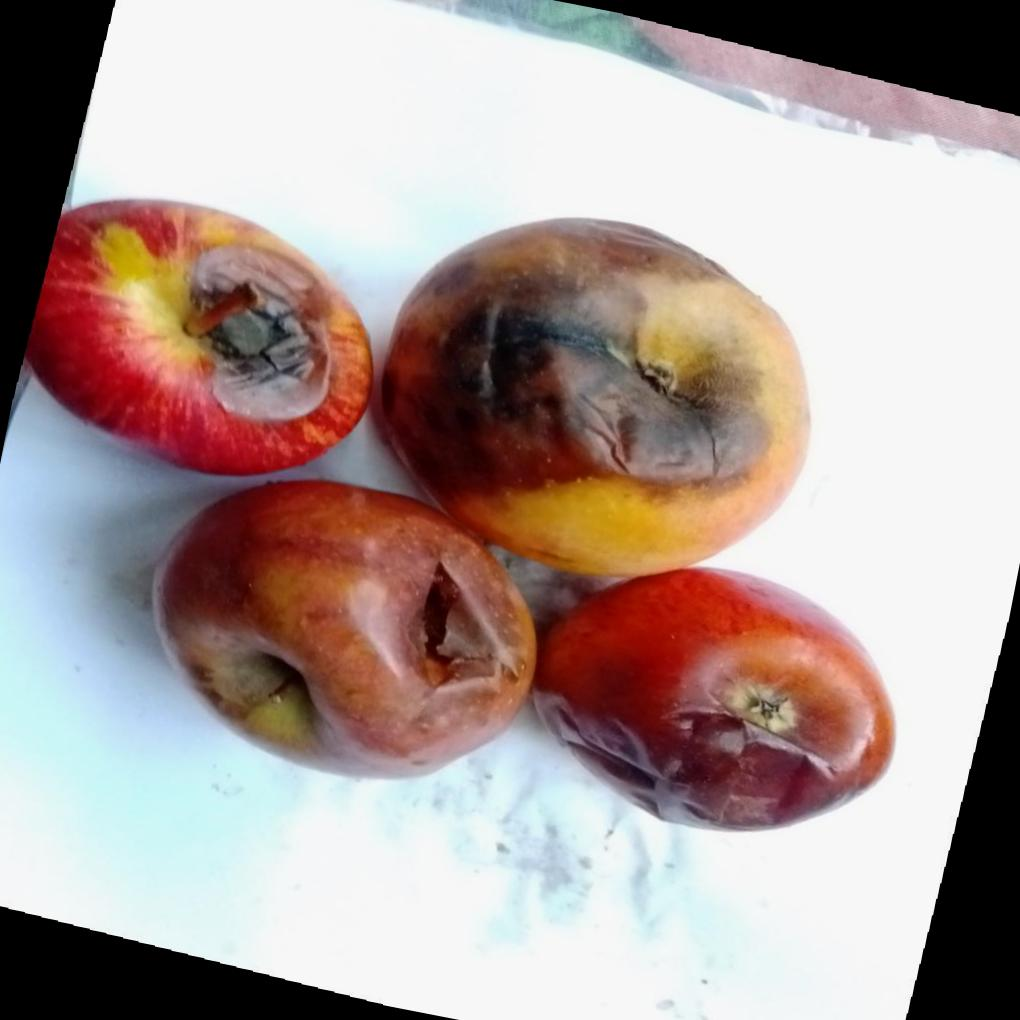FreshOrange: (69, 202, 888, 832)
